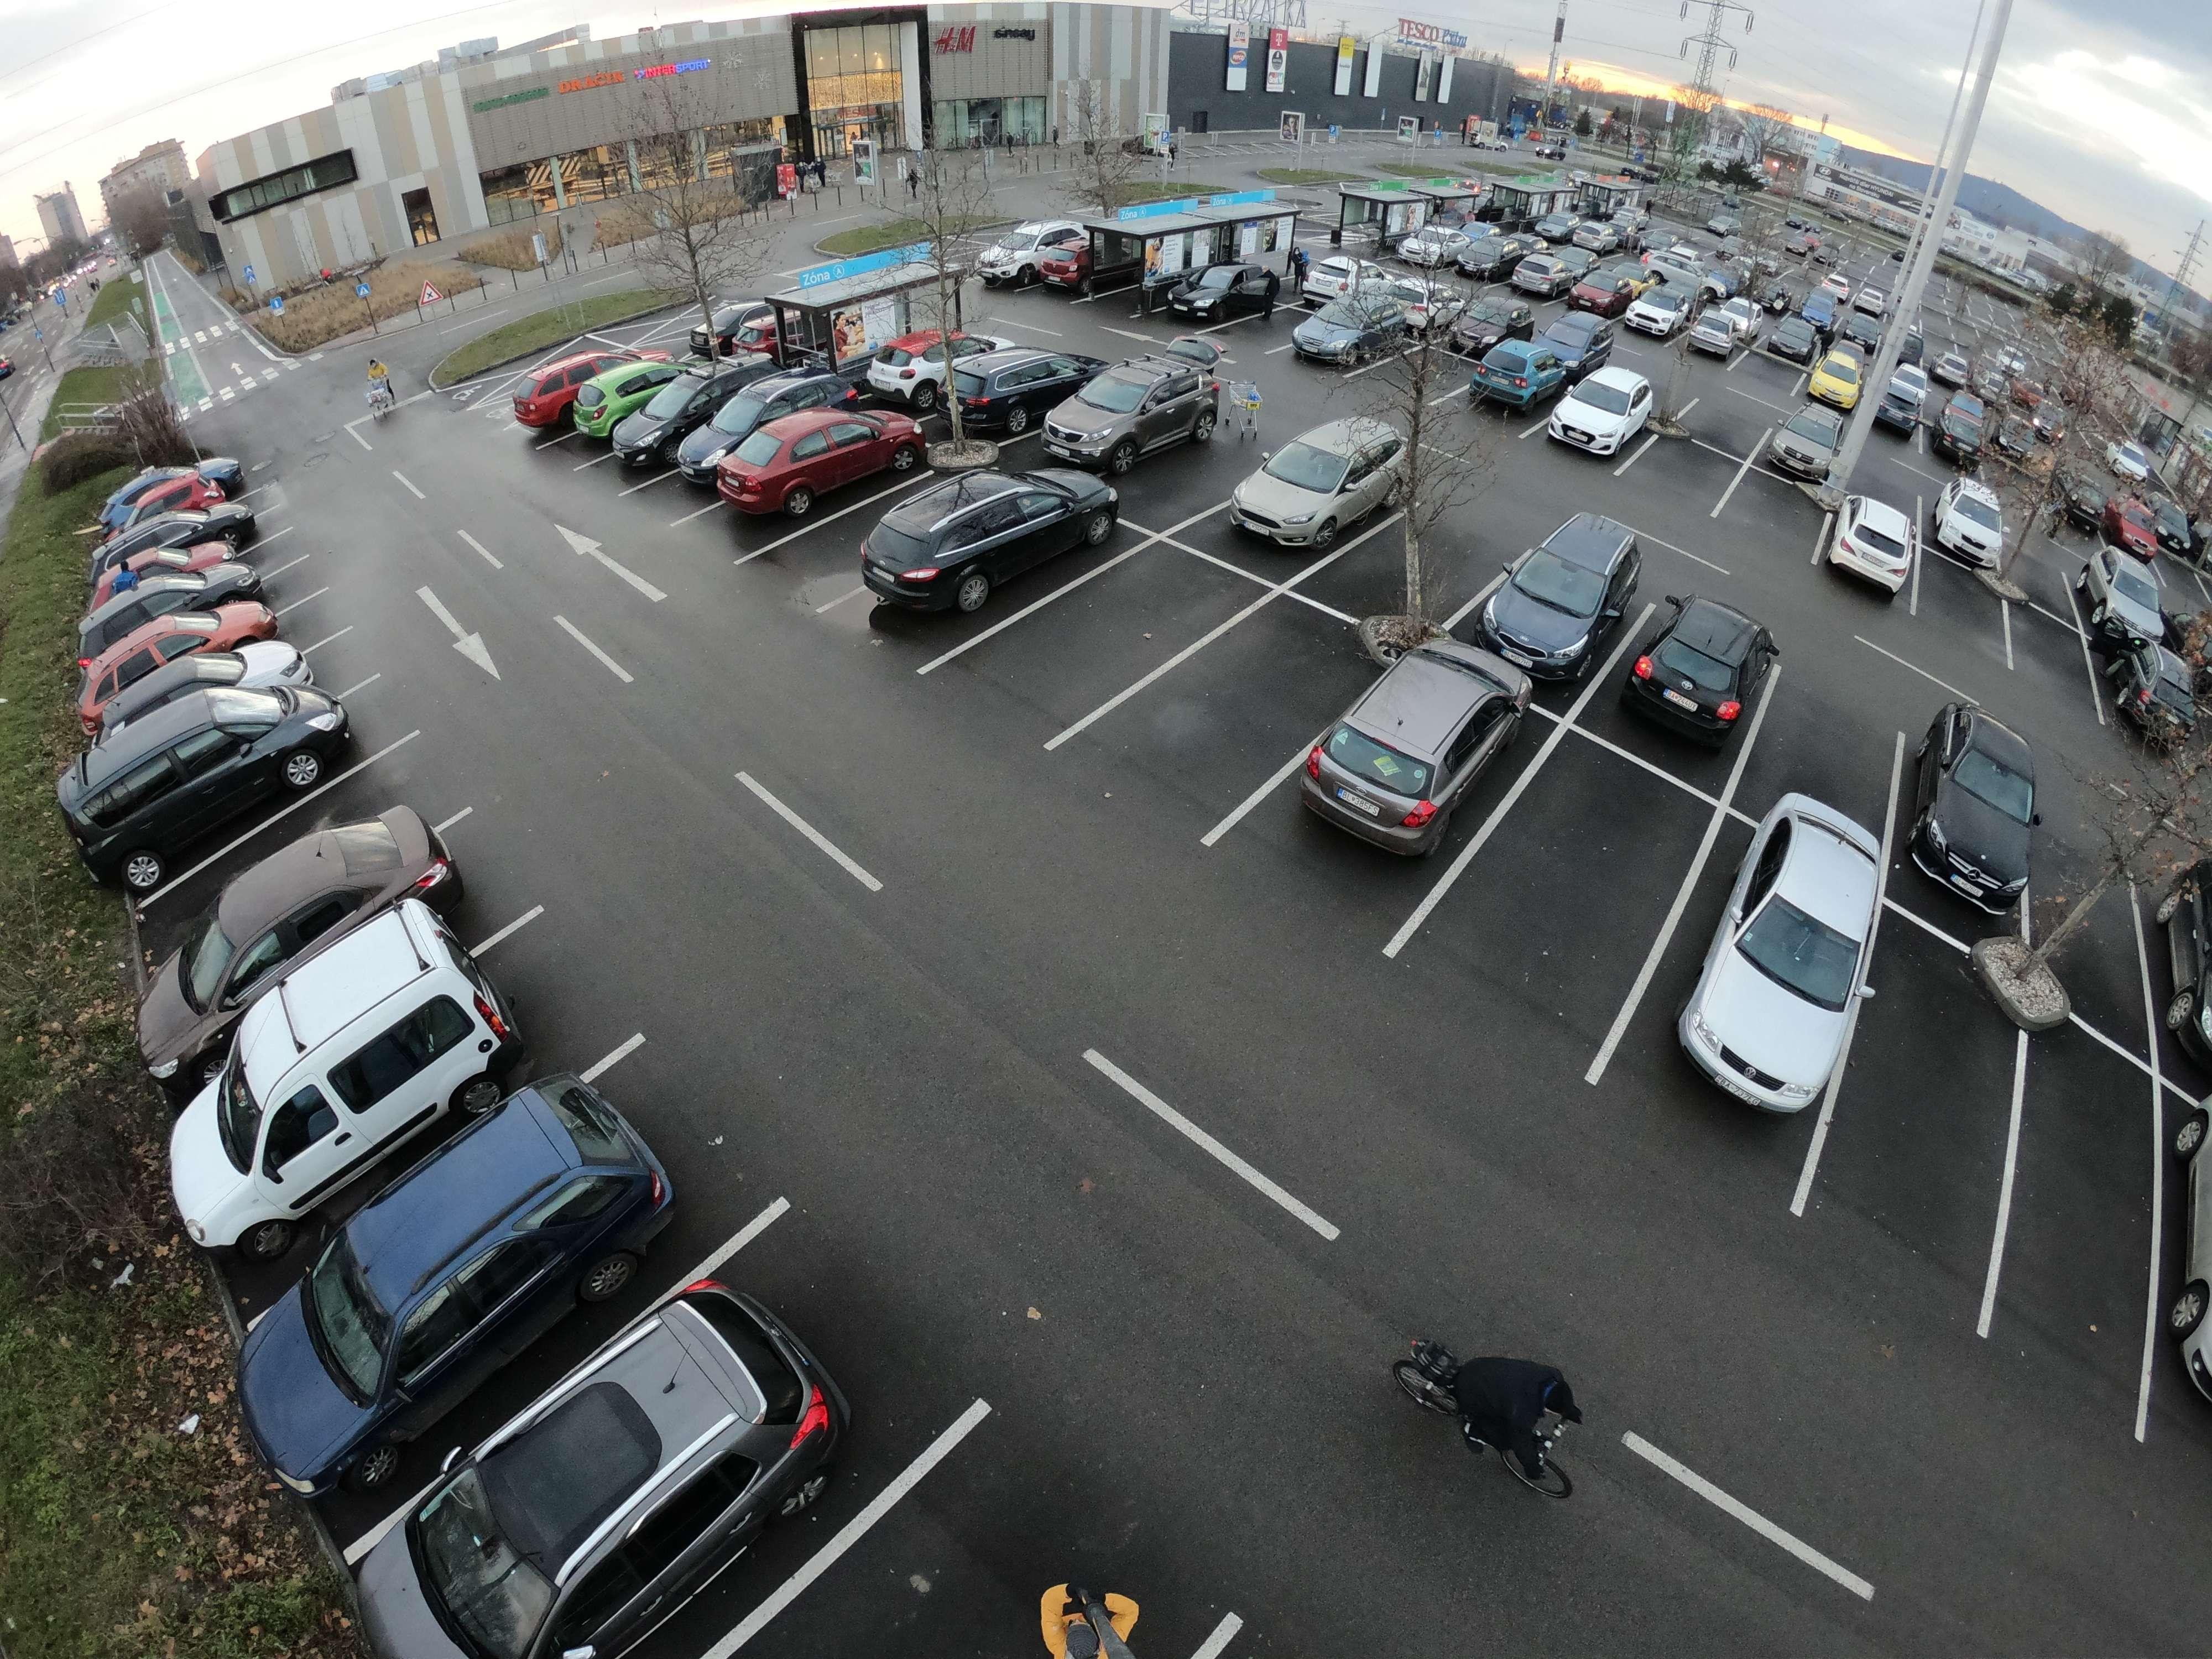empty: (390, 1267, 869, 1652), (253, 1108, 704, 1471), (188, 884, 533, 1253), (1662, 784, 1897, 1110), (1282, 640, 1526, 864), (77, 685, 336, 864), (860, 469, 1097, 610), (1467, 512, 1653, 676), (1904, 706, 2048, 913), (1217, 416, 1414, 552), (1608, 592, 1780, 746), (87, 584, 298, 683), (1042, 356, 1226, 469), (723, 404, 921, 507), (85, 626, 308, 714), (618, 361, 758, 469), (521, 350, 669, 444), (101, 505, 261, 586), (2151, 875, 2212, 1073), (1822, 495, 1935, 598), (953, 345, 1087, 430), (1547, 362, 1665, 457), (1292, 298, 1413, 373), (1467, 338, 1578, 415), (1928, 477, 2008, 563), (1759, 415, 1841, 488), (1618, 288, 1700, 345), (1446, 301, 1526, 357), (1512, 249, 1587, 300), (1691, 308, 1759, 359), (1575, 270, 1642, 317), (1761, 317, 1820, 368)
occupied: (2008, 1134, 2153, 1312), (1851, 1053, 1994, 1197), (787, 1567, 998, 1657), (287, 739, 456, 849), (2013, 816, 2128, 976), (1496, 823, 1655, 929), (1764, 697, 1888, 789), (1179, 674, 1306, 751), (1726, 462, 1806, 559), (1052, 594, 1163, 662), (834, 486, 934, 552), (1926, 579, 2017, 650), (1345, 540, 1442, 596), (1679, 392, 1773, 448), (1167, 462, 1247, 512), (1648, 441, 1724, 490)
